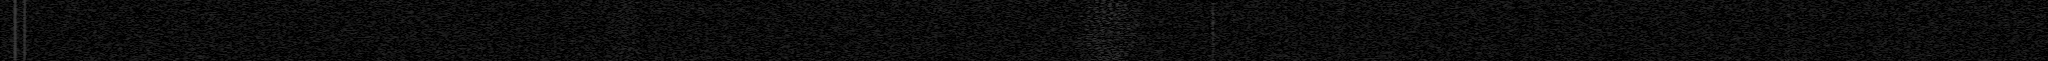wv_am: (1785, 0, 1791, 48), (1785, 49, 1792, 61)
wv_cw: (0, 0, 24, 61), (20, 0, 31, 61)
wv_lsb: (1283, 13, 1288, 31), (1283, 55, 1289, 61), (1284, 39, 1288, 48), (1284, 6, 1288, 12), (1284, 1, 1288, 5), (1284, 32, 1288, 35), (1284, 49, 1287, 52)
wv_usb: (1209, 1, 1217, 61)
wv_wbfm: (1074, 0, 1145, 61), (606, 0, 648, 61)
